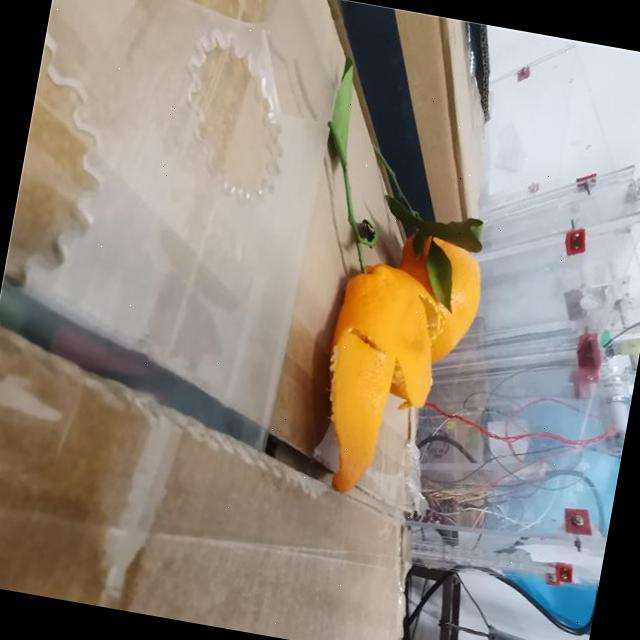orange-peel: (304, 217, 490, 510)
